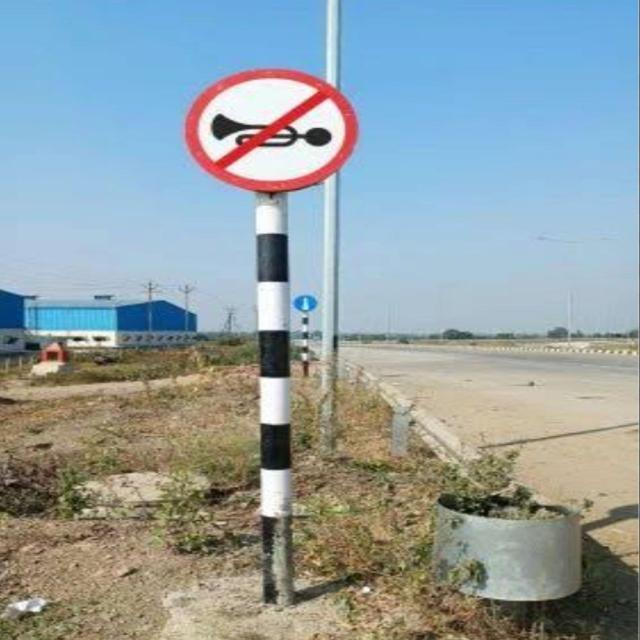horn prohibited: (181, 66, 362, 196)
